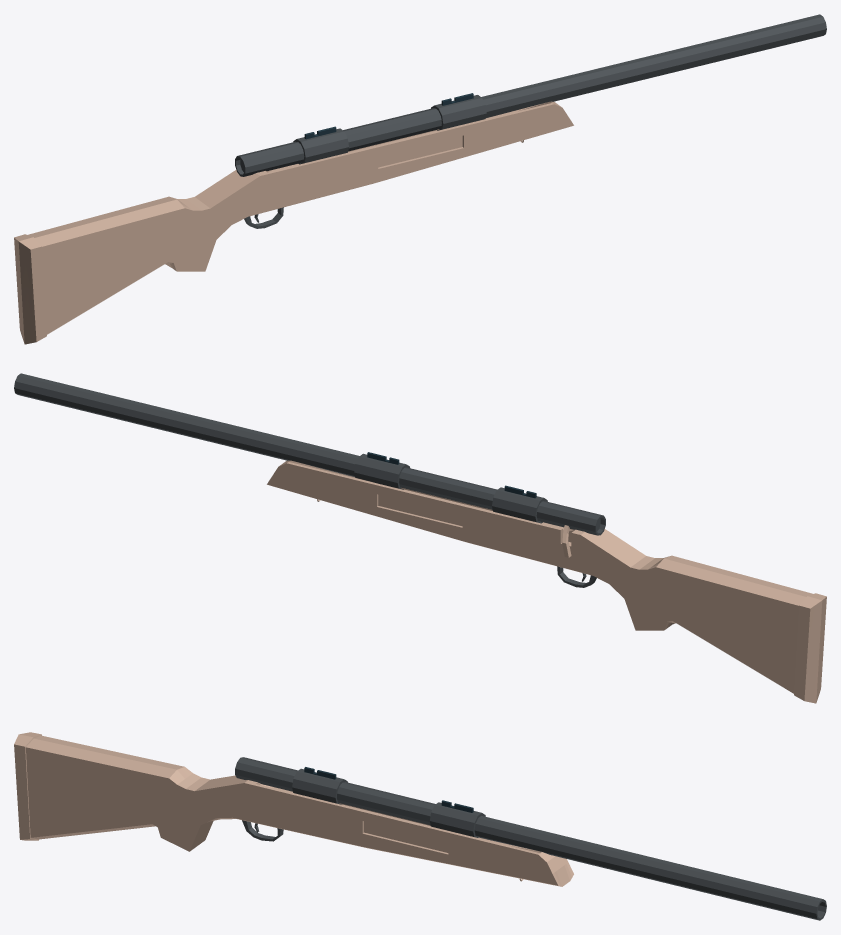
File: SM_BoltActionRifle.fbx
3 renders of one model, top to bottom at view 1: azimuth 30°, elevation 25°; view 2: azimuth 150°, elevation 25°; view 3: azimuth 330°, elevation 25°, orthographic.
Parts seen in each view (by area): view 1: SM_BoltActionRifle; view 2: SM_BoltActionRifle; view 3: SM_BoltActionRifle.
Part boxes in pixels (x1,y1,x2,y2): SM_BoltActionRifle: (14,14,826,344); SM_BoltActionRifle: (14,373,826,703); SM_BoltActionRifle: (14,732,826,920).
Size of the model in its own units: 128 by 21.72 by 5.35.
